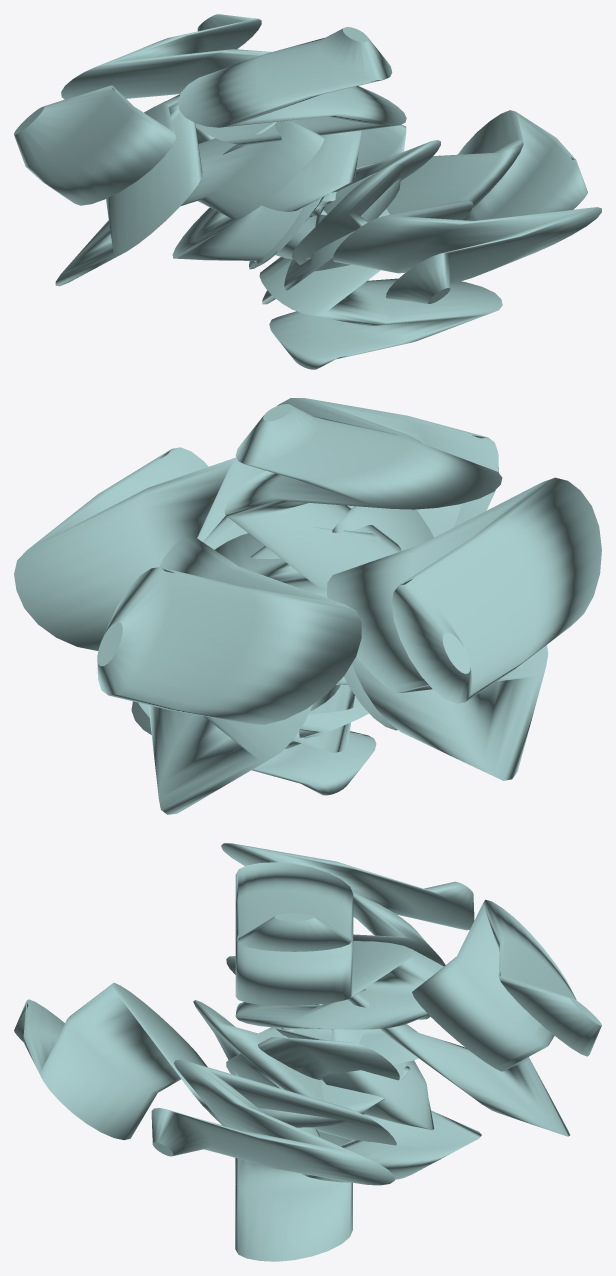
The model's file is blueprotein.fbx.
The picture shows the model from 3 angles, top to bottom: view 1: azimuth 30°, elevation 25°; view 2: azimuth 150°, elevation 25°; view 3: azimuth 270°, elevation 25°; orthographic projection. The views are drawn at different scales.
Visible parts, largest first — view 1: pasted__pasted__pasted__pCylinder1, pasted__pCylinder1, pasted__pasted__pCylinder1; view 2: pasted__pasted__pasted__pCylinder1, pasted__pasted__pCylinder1, pasted__pCylinder1; view 3: pasted__pasted__pCylinder1, pasted__pCylinder1, pasted__pasted__pasted__pCylinder1.
Boxes of the visible parts, <box> form: pasted__pasted__pasted__pCylinder1: <box>14,85,587,304</box>; pasted__pCylinder1: <box>178,27,502,369</box>; pasted__pasted__pCylinder1: <box>61,14,601,303</box>; pasted__pasted__pasted__pCylinder1: <box>14,447,601,780</box>; pasted__pasted__pCylinder1: <box>97,398,498,814</box>; pasted__pCylinder1: <box>131,404,502,795</box>; pasted__pasted__pCylinder1: <box>14,899,601,1139</box>; pasted__pCylinder1: <box>235,862,481,1261</box>; pasted__pasted__pasted__pCylinder1: <box>151,843,474,1185</box>.
Size of the model in its own units: 16.41 by 10.69 by 18.16.
